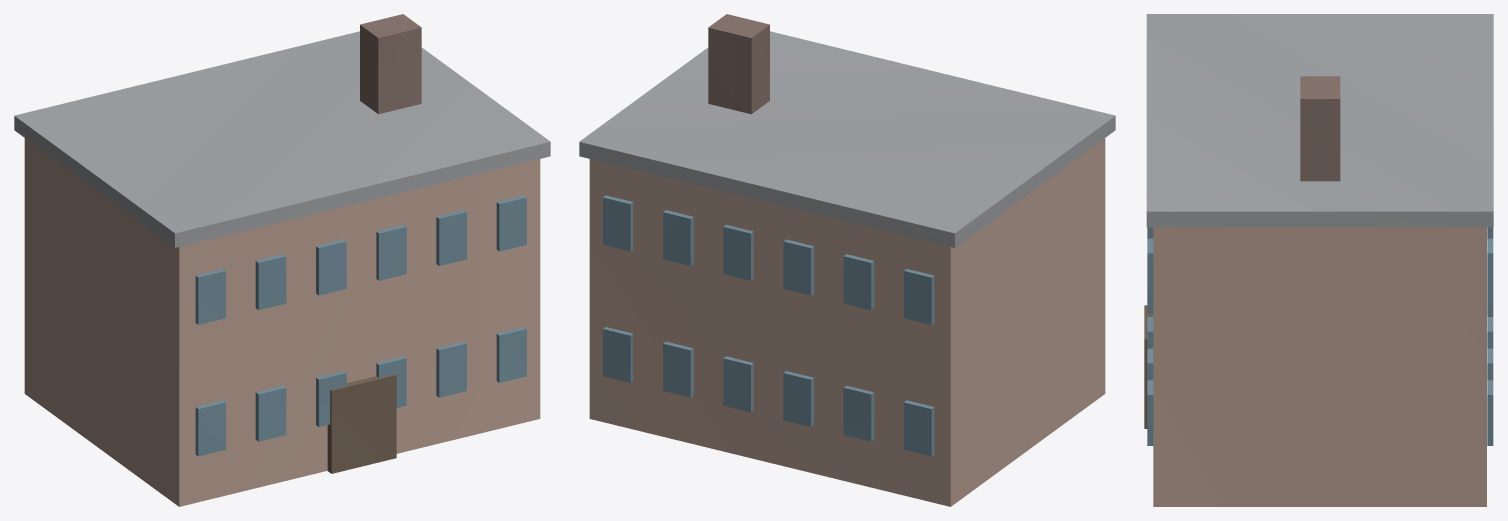
Rendered from factory-03.glb.
The picture shows the model from 3 angles, left to right: view 1: azimuth 30°, elevation 25°; view 2: azimuth 150°, elevation 25°; view 3: azimuth 270°, elevation 25°; orthographic projection. The views are drawn at different scales.
Parts seen in each view (by area): view 1: world; view 2: world; view 3: world.
Boxes of the visible parts, box(x1,y1,x2,y2) form: world: box(14, 14, 550, 506); world: box(579, 14, 1115, 506); world: box(1144, 14, 1493, 506).
Size of the model in its own units: 1.89 by 1.7 by 1.41.
